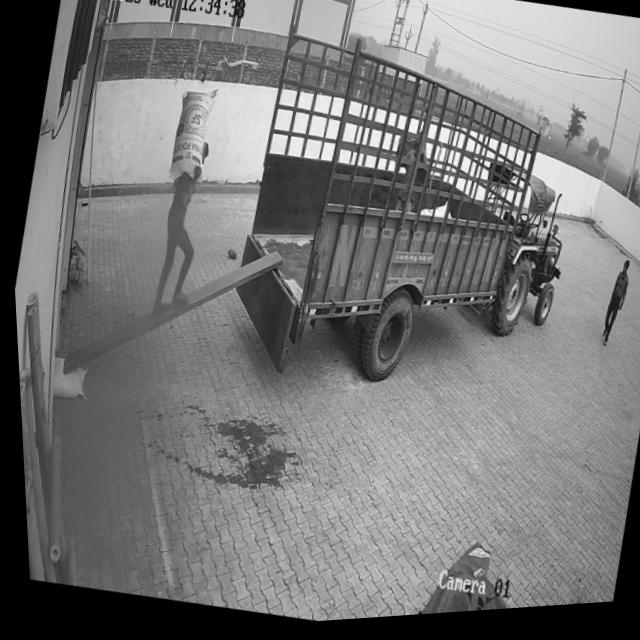sack: (161, 85, 219, 188), (42, 354, 84, 403)
